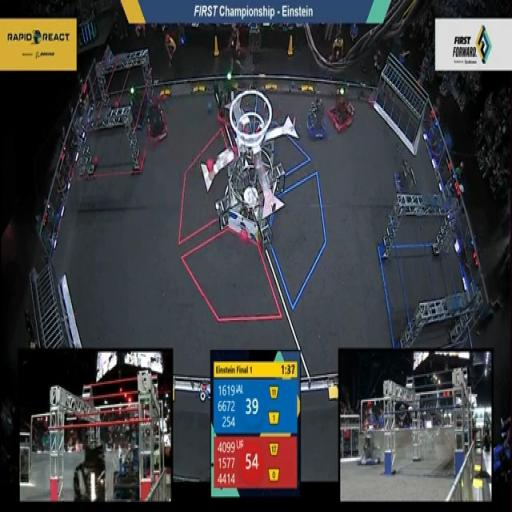robot: (214, 70, 241, 128), (328, 84, 356, 136), (305, 90, 330, 143), (392, 158, 422, 200), (126, 80, 148, 132), (145, 100, 169, 146)
